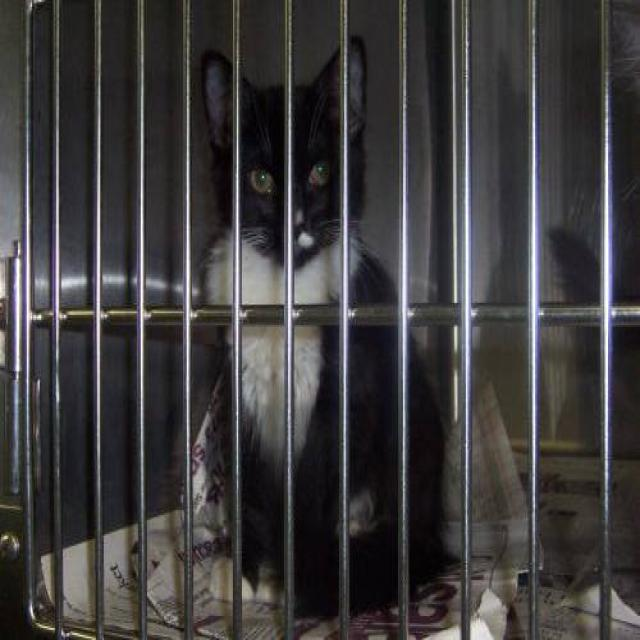cat: (150, 14, 488, 630)
